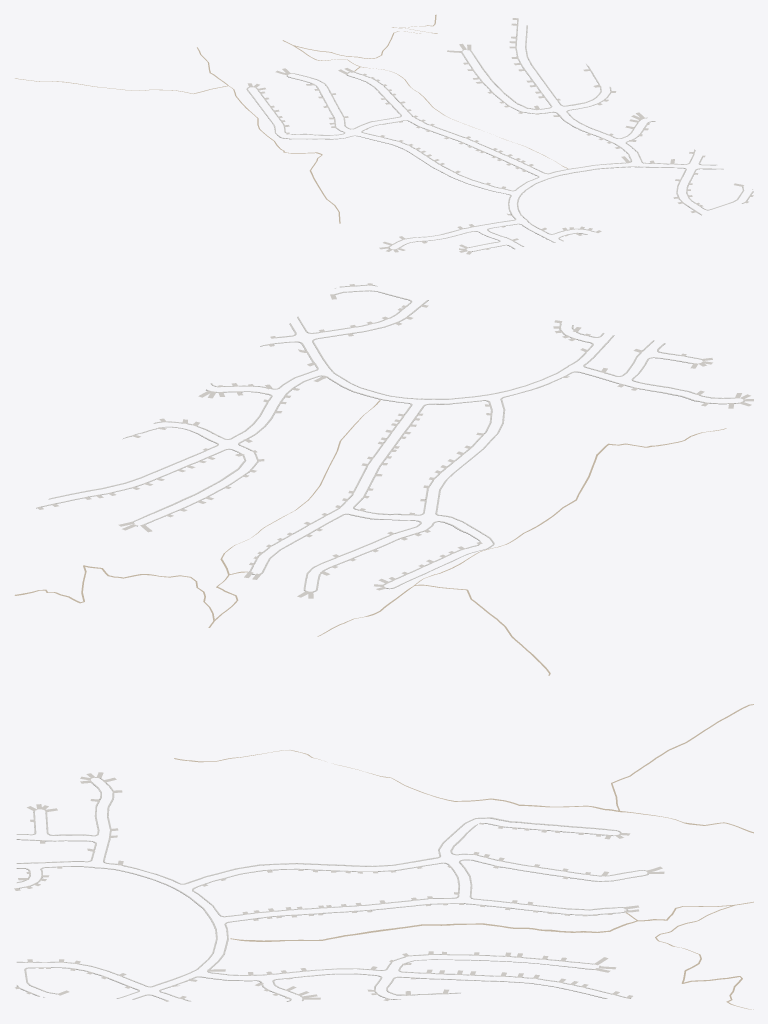
File: ground_r0_c6.glb
3 views of the same model, one above another, from view 1: azimuth 30°, elevation 25°; view 2: azimuth 150°, elevation 25°; view 3: azimuth 270°, elevation 25° (orthographic). The views are drawn at different scales.
Visible parts, largest first — view 1: sidewalks, driveways, paths; view 2: sidewalks, driveways, paths; view 3: sidewalks, driveways, paths.
Boxes of the visible parts, left/top/right/bottom form: sidewalks: left=246, top=20, right=753, bottom=251; driveways: left=247, top=18, right=753, bottom=254; paths: left=15, top=14, right=567, bottom=223; sidewalks: left=36, top=284, right=744, bottom=592; driveways: left=36, top=283, right=753, bottom=598; paths: left=14, top=400, right=726, bottom=675; sidewalks: left=16, top=777, right=648, bottom=1001; driveways: left=14, top=772, right=664, bottom=1001; paths: left=174, top=704, right=753, bottom=1009.
Size of the model in its own units: 701 by 90.09 by 790.
